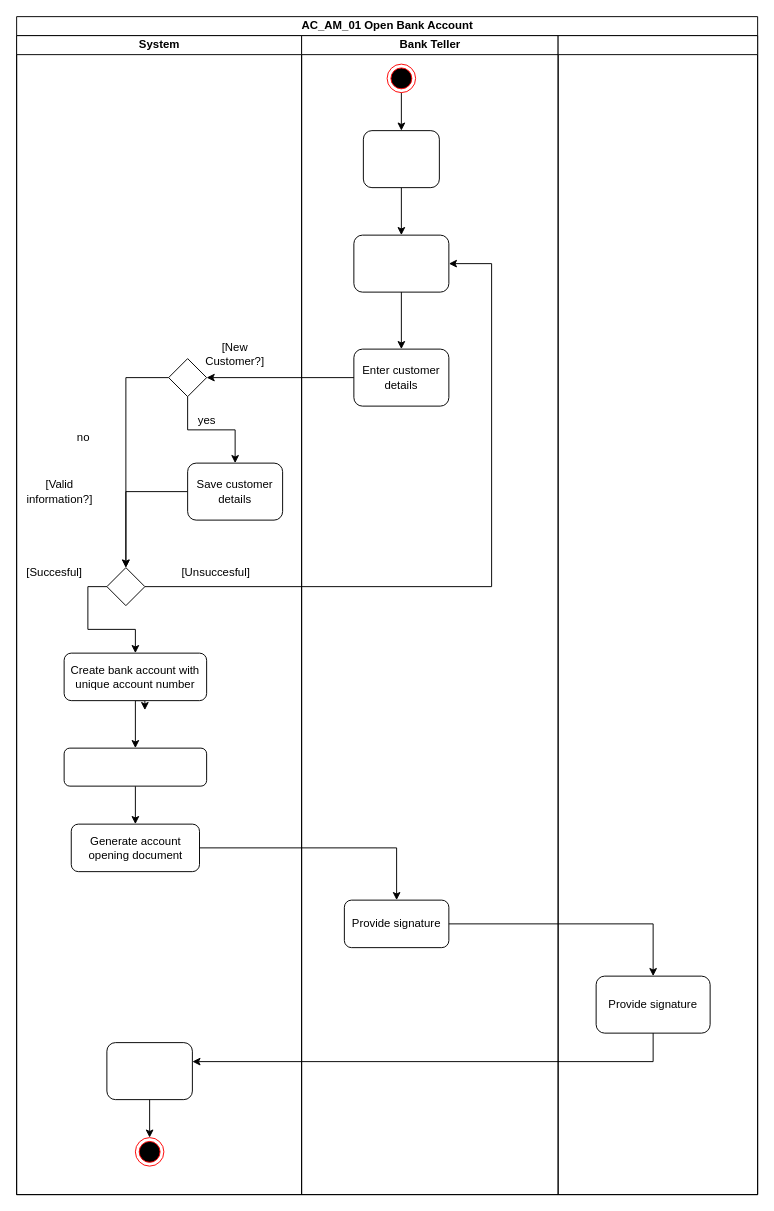
This 774x1211 diagram has some shape labels left out. Here are the shapes that lost their labels. From the top down, the box of each, then its label:
(362, 130, 439, 188): Select "Open new account"
(353, 234, 449, 292): Select account type, currency, interest rate, maintenace fees
(557, 35, 758, 1195): Customer
(63, 747, 207, 786): Display account details
(106, 1042, 192, 1100): Apply periodic interest and/or maintenance fees
